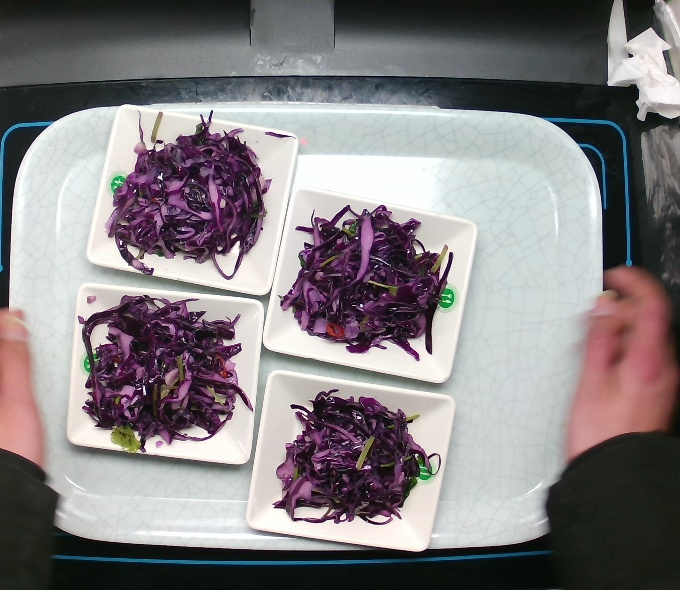wcq-ZiGanLan: (74, 292, 257, 455), (277, 201, 457, 363), (102, 117, 273, 280), (269, 386, 444, 529)
